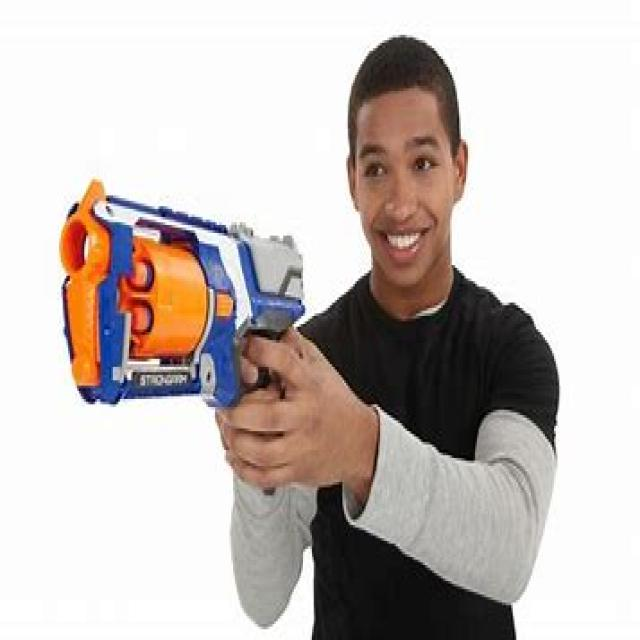nerf-maverik: (58, 172, 314, 512)
